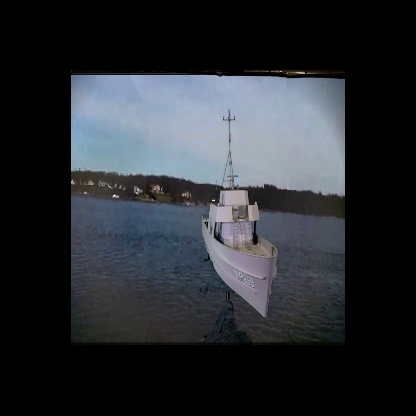YP689: (201, 109, 279, 320)
